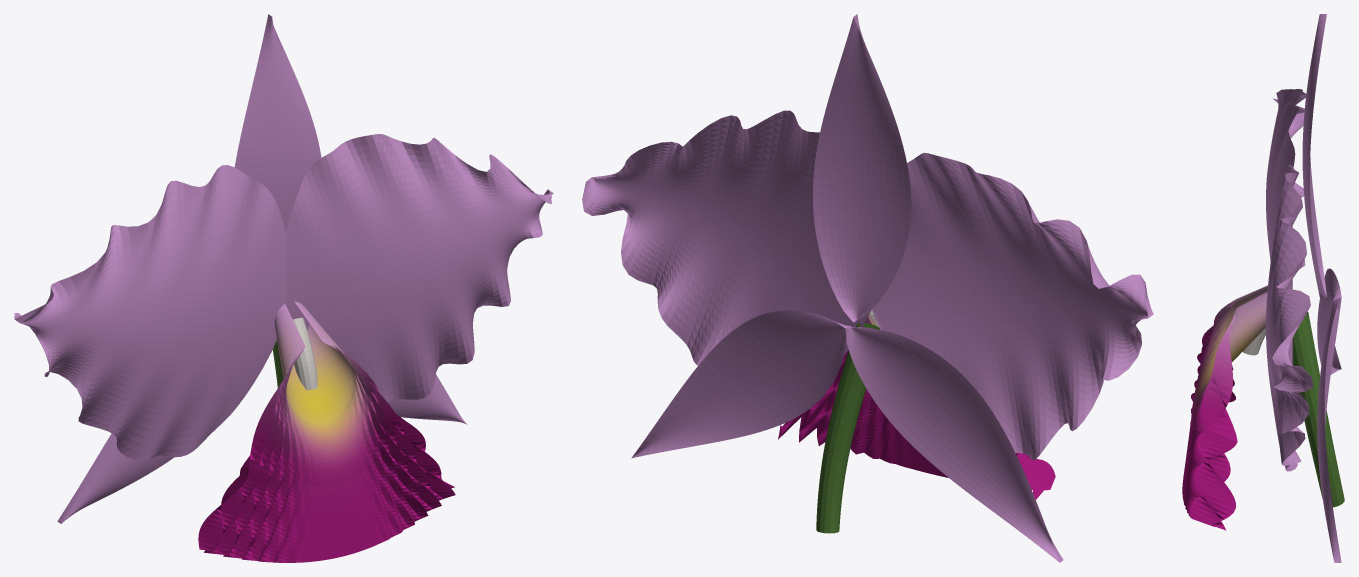
File: cattleya_trianae.obj
3 views of the same model, side by side, from view 1: azimuth 30°, elevation 25°; view 2: azimuth 150°, elevation 25°; view 3: azimuth 270°, elevation 25° (orthographic). The views are drawn at different scales.
Size of the model in its own units: 123 by 108 by 33.2.
